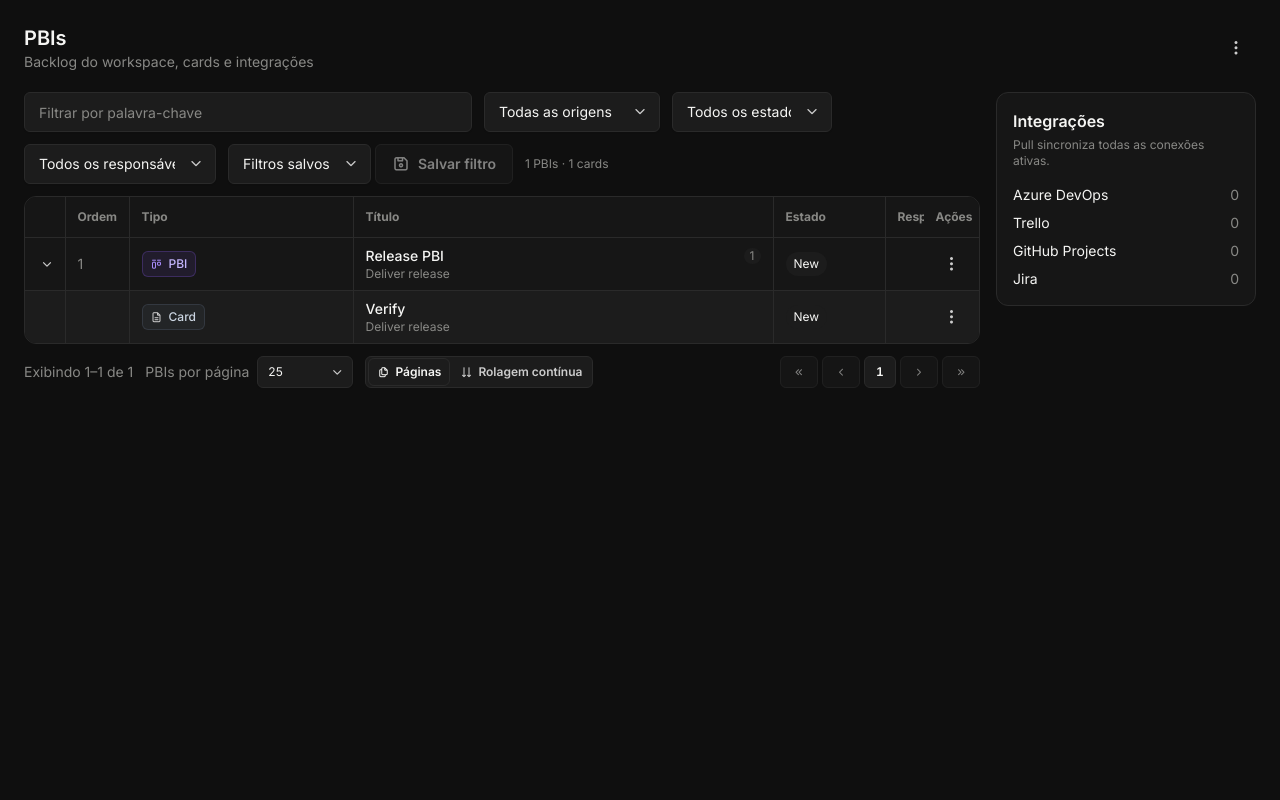
Test: PbiView form dialog (Vitest 5) › closes the open item with Escape
Click the button "Release PBI".
click(405, 256)  # box x1=366 y1=246 x2=736 y2=266
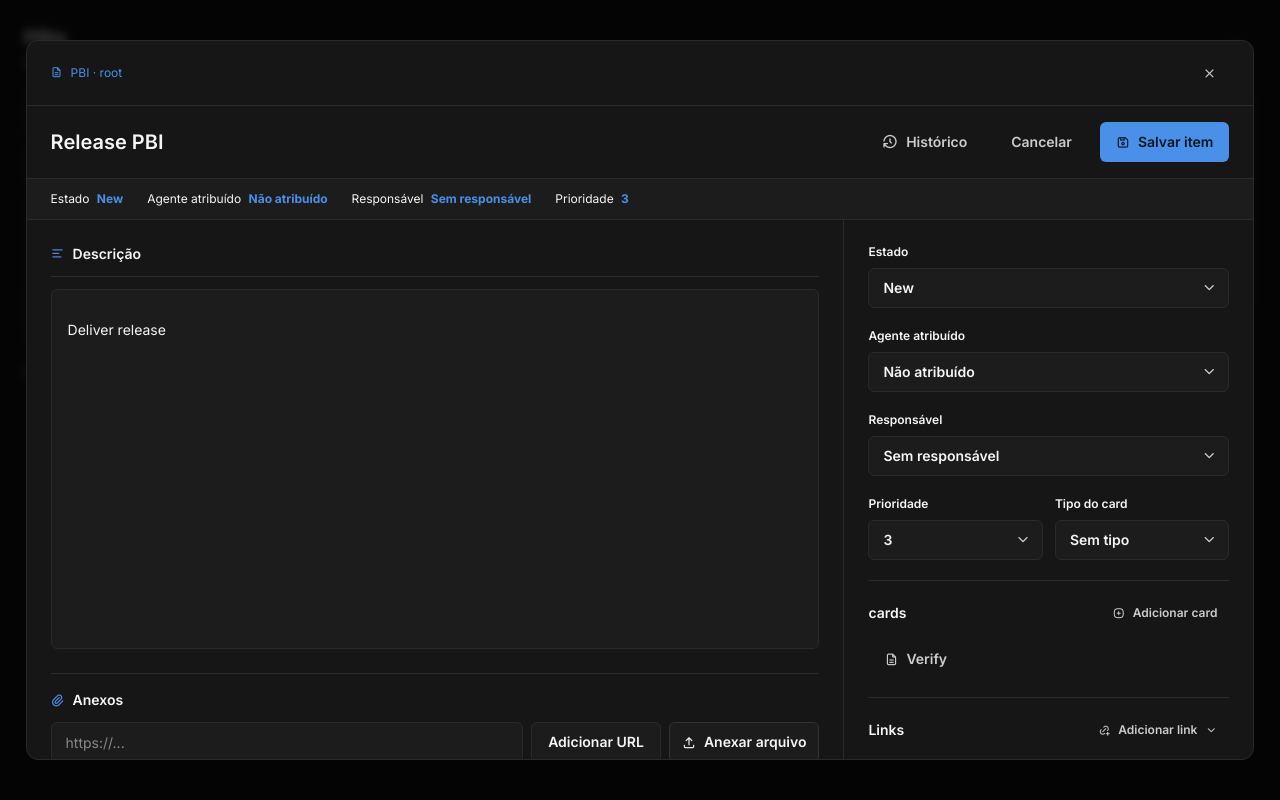
Check: the dialog is shown
Press Escape
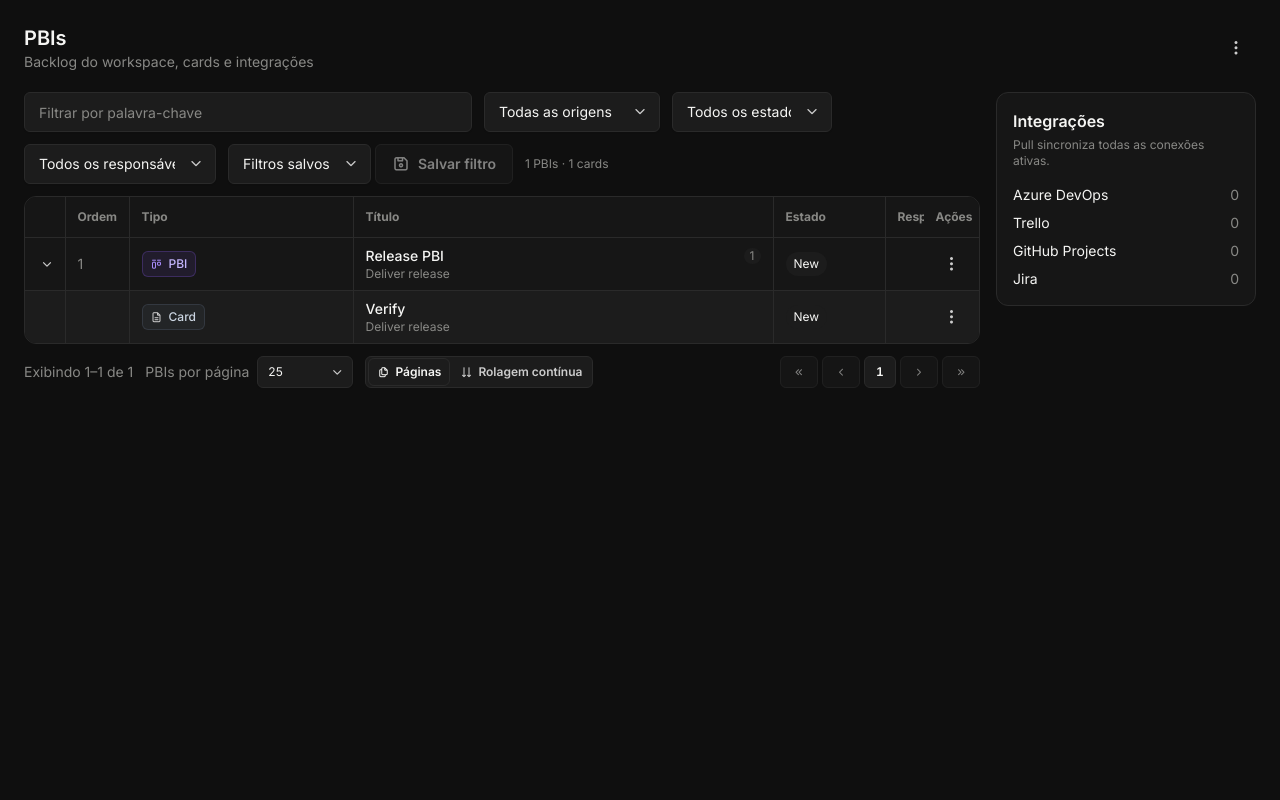
Check: the dialog is gone
